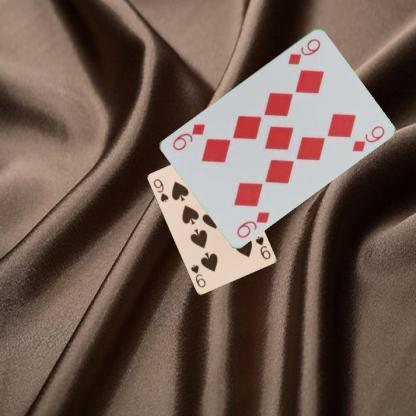9d: (234, 208, 271, 240), (285, 35, 322, 66)
9s: (151, 176, 170, 204), (253, 233, 272, 260)
